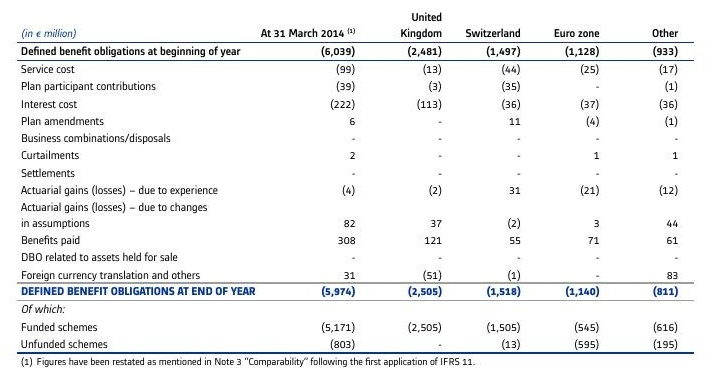table: (0, 0, 715, 368)
